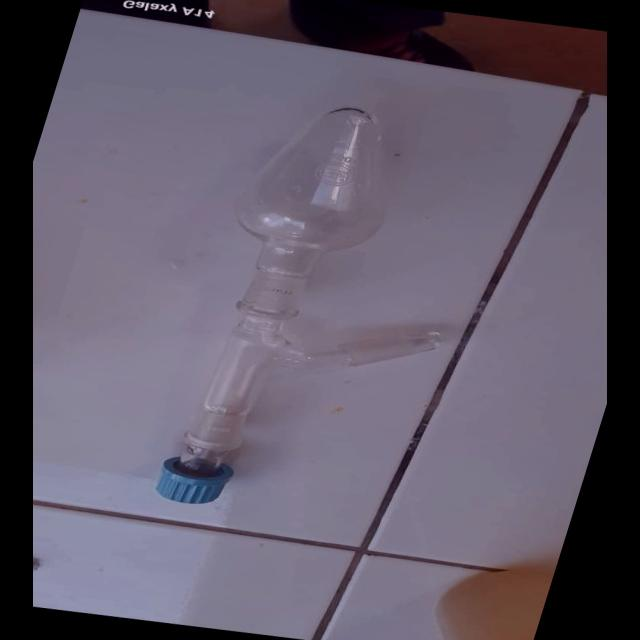Distillation: (66, 78, 534, 539)
